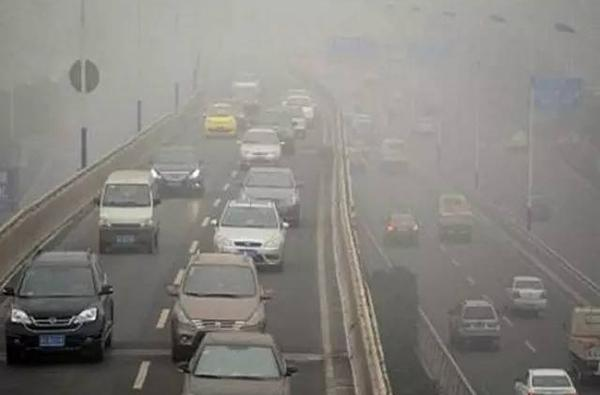bus: (561, 305, 600, 379), (433, 194, 474, 244), (232, 74, 263, 109), (377, 139, 409, 171)
car: (1, 248, 114, 361), (164, 249, 271, 363), (175, 333, 298, 395), (92, 169, 162, 254), (210, 199, 290, 272), (232, 168, 305, 227), (147, 146, 205, 196), (446, 300, 501, 350), (248, 109, 298, 154), (500, 276, 548, 315), (235, 129, 286, 165), (513, 368, 579, 395), (202, 104, 239, 140), (281, 96, 319, 128), (382, 213, 419, 244), (274, 105, 306, 138), (213, 97, 245, 128), (521, 194, 552, 224)
